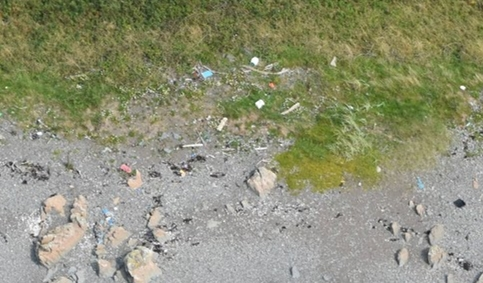scattered_barrel: (181, 48, 306, 133)
white_in_green: (106, 147, 147, 186), (403, 163, 443, 198)
